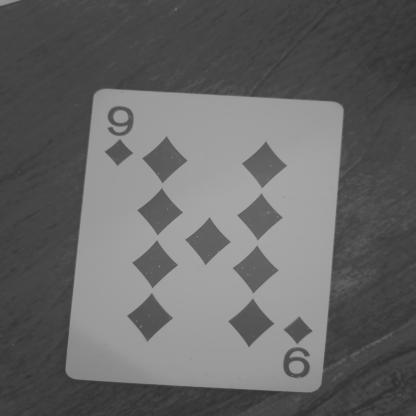9D: (275, 298, 328, 382), (90, 98, 149, 166)
